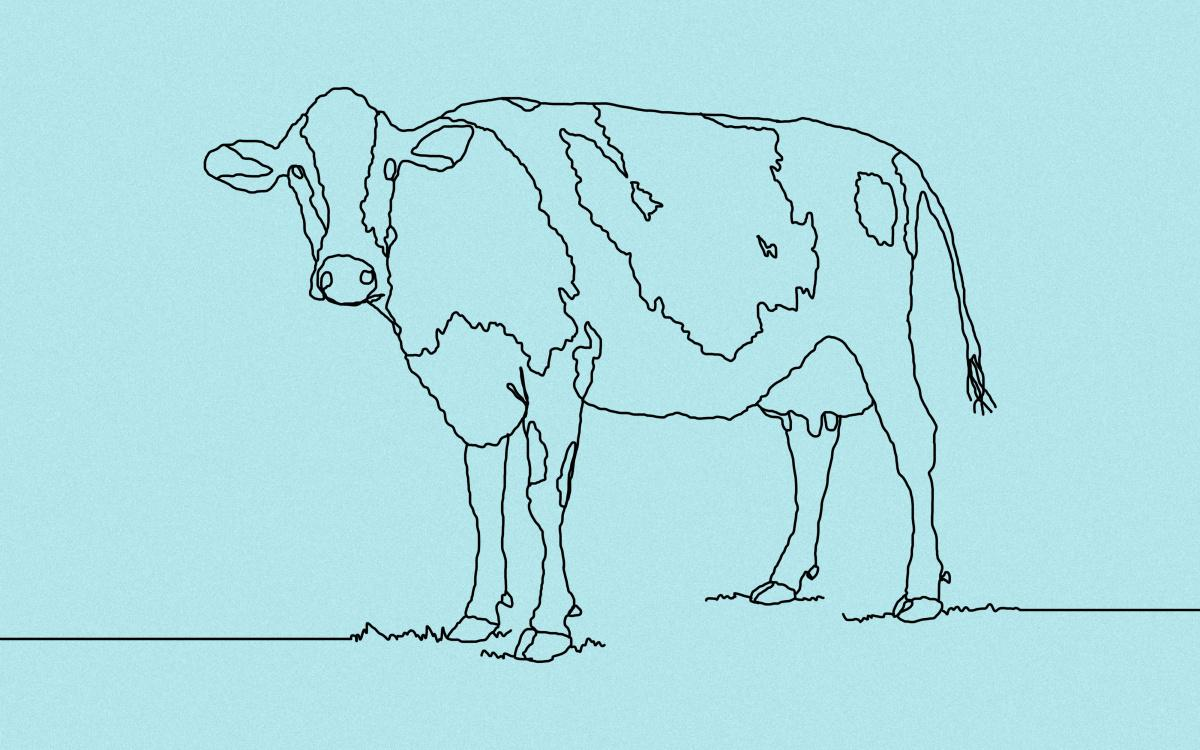cow: (206, 90, 944, 662)
